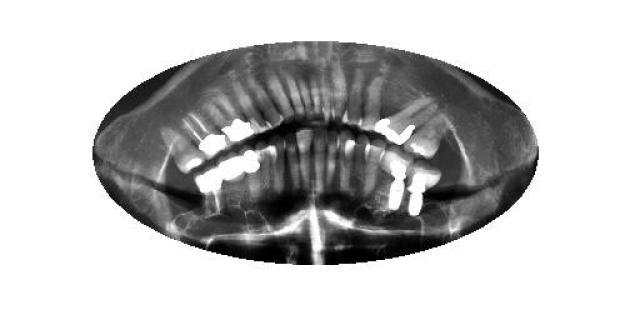Fillings: (375, 94, 439, 146), (208, 95, 254, 145), (162, 126, 204, 175), (242, 146, 260, 202), (216, 153, 245, 185)
Implant: (405, 158, 441, 216), (184, 108, 225, 158), (382, 148, 412, 214), (195, 166, 226, 218)
Restorations: (375, 94, 439, 146)
